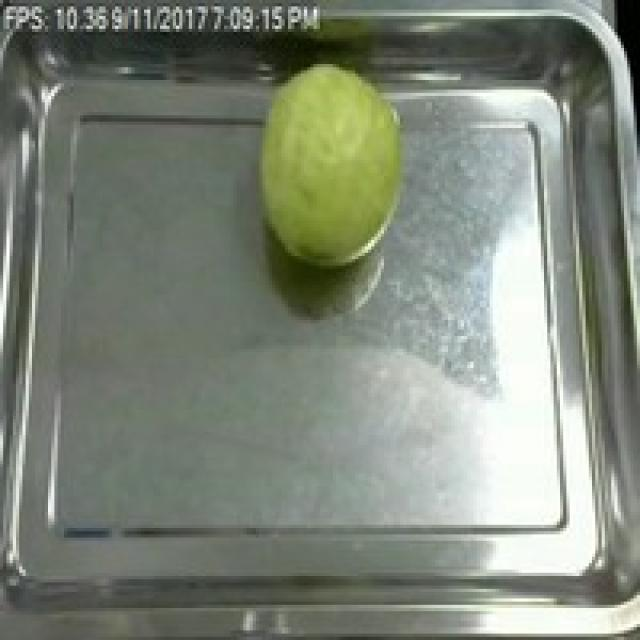Fruit: (243, 51, 416, 275)
